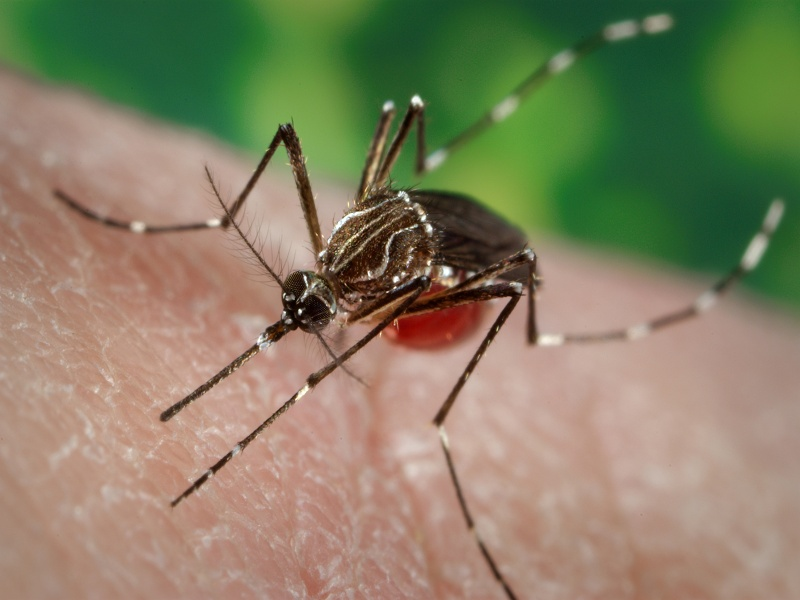dengue_mosquito: (203, 112, 439, 442)
